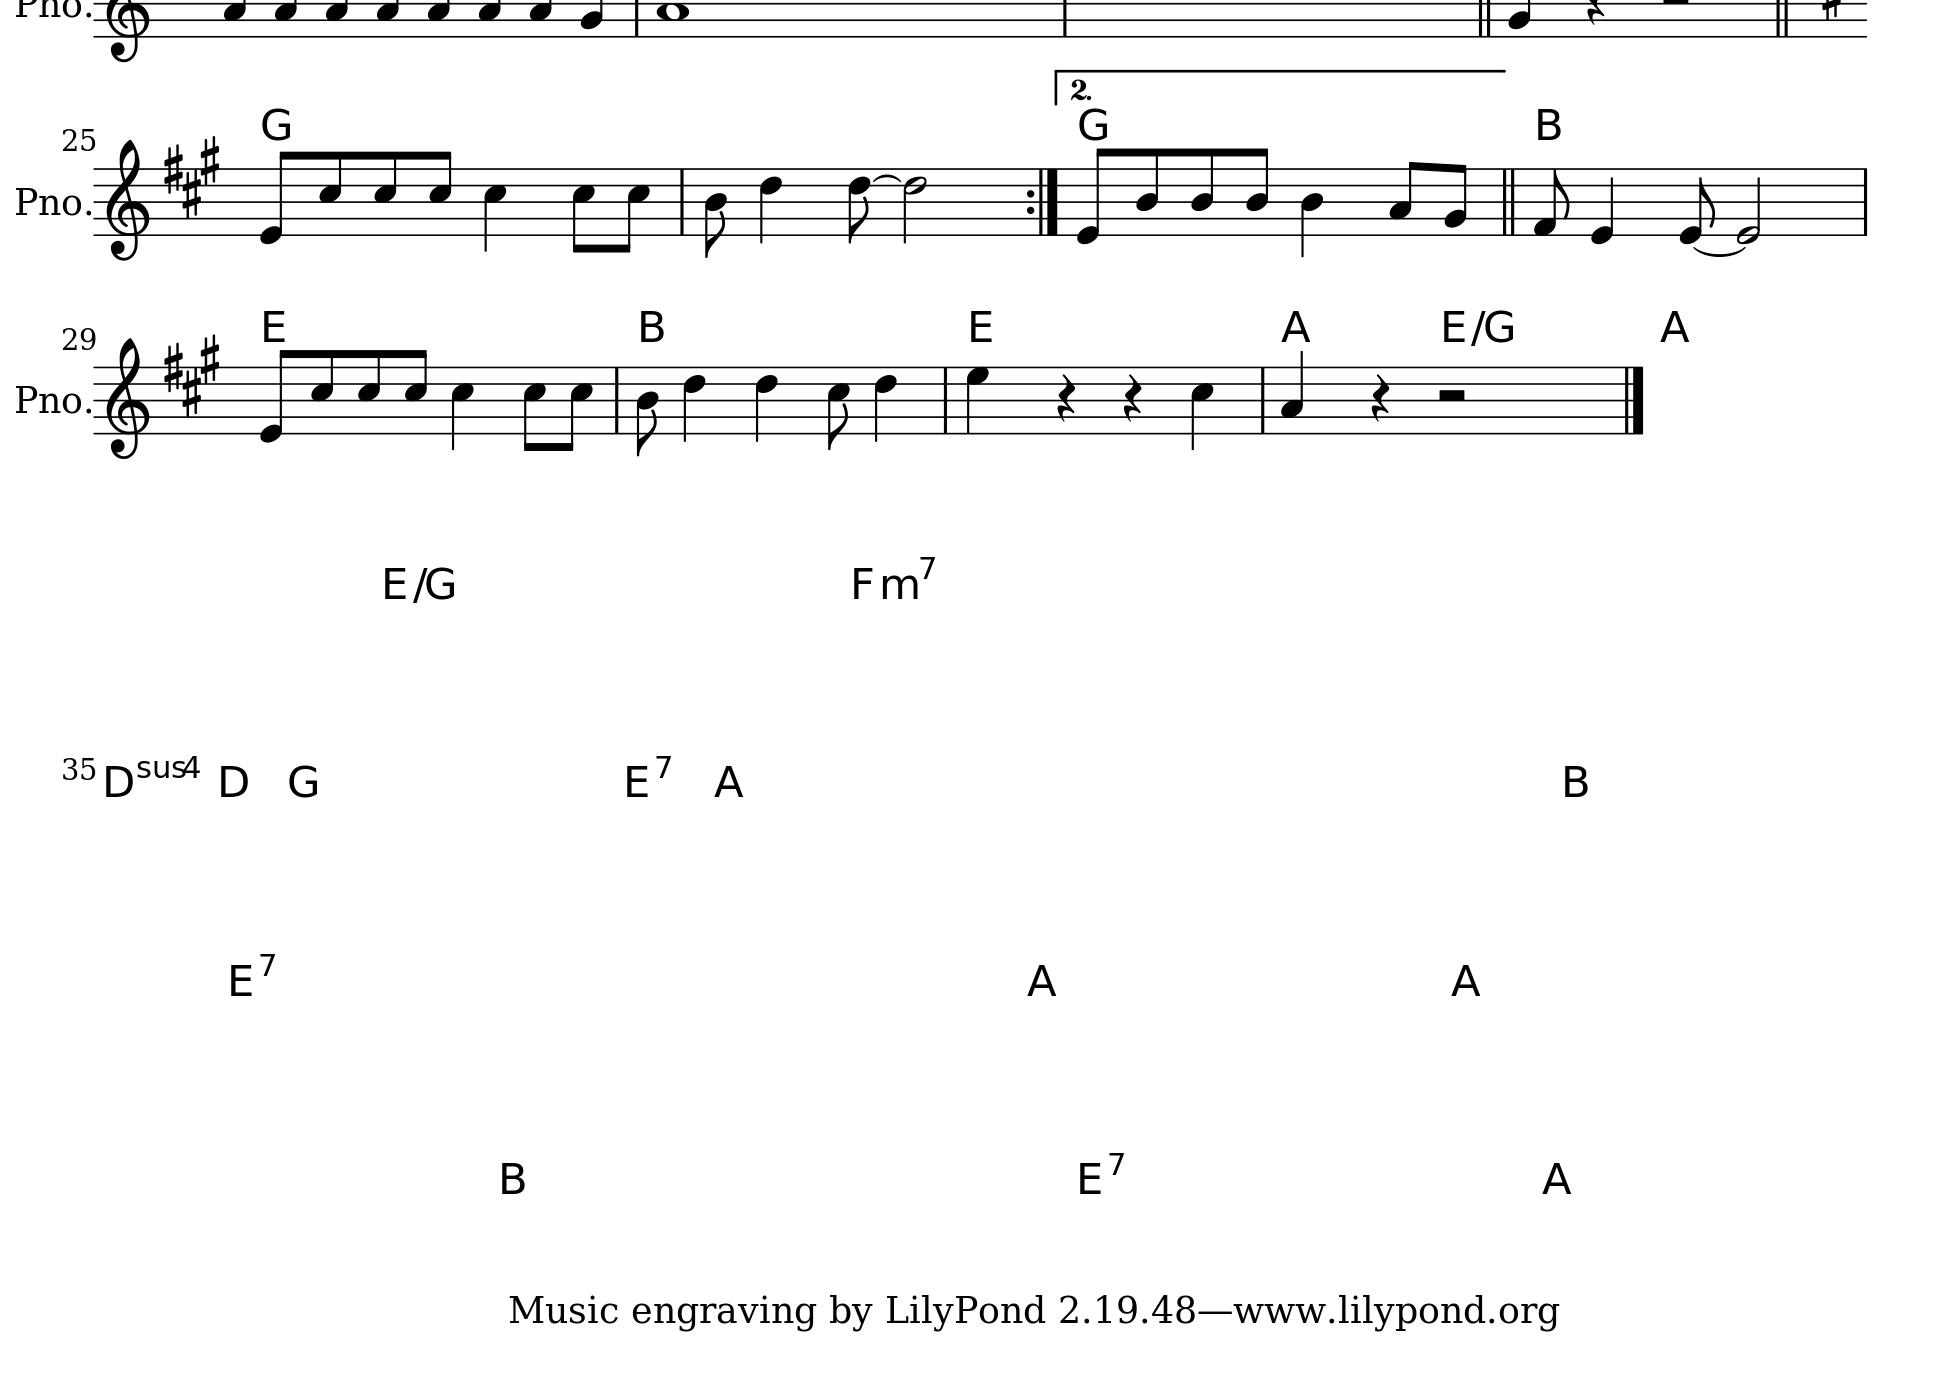2: (60, 325, 79, 352), (60, 127, 79, 153)
2_0: (1735, 166, 1764, 246)
2_6: (901, 166, 927, 244)
4_0: (1588, 166, 1617, 246)
4_3: (1281, 349, 1305, 436)
4_4: (1299, 166, 1324, 258)
4_5: (481, 165, 508, 253), (448, 364, 475, 451), (1189, 364, 1215, 451)
4_6: (757, 166, 783, 246), (681, 364, 706, 444), (753, 364, 778, 444), (871, 364, 897, 442)
4_7: (964, 364, 991, 435)
5: (79, 124, 96, 153)
7: (916, 552, 937, 580), (258, 949, 276, 978), (1108, 1147, 1125, 1176)
8_0: (1075, 145, 1113, 247), (256, 346, 294, 445), (258, 148, 295, 246), (1680, 166, 1716, 244)
8_1: (1531, 166, 1572, 237)
8_2: (1443, 162, 1468, 237)
8_3: (1389, 159, 1422, 237)
8_4: (1189, 145, 1216, 238), (633, 364, 660, 457), (1134, 147, 1161, 238), (702, 166, 727, 259), (1245, 145, 1270, 237)
8_5: (618, 166, 651, 255), (562, 364, 592, 453), (355, 346, 382, 436), (316, 148, 343, 237), (372, 148, 399, 237), (427, 148, 454, 237), (520, 364, 547, 453), (570, 166, 595, 255), (309, 346, 334, 435), (403, 346, 429, 435), (825, 364, 850, 451)
8_6: (844, 166, 871, 244)
9: (79, 324, 97, 352)
A_S: (162, 333, 222, 417), (162, 135, 222, 217)
Double_barline: (1498, 166, 1521, 235)
Final_barline: (1620, 364, 1647, 433)
Gclef: (103, 136, 151, 262), (103, 334, 151, 460)
Pno: (12, 183, 85, 222), (12, 382, 85, 418)
Rests2: (1434, 385, 1470, 406)
Rests4: (1369, 372, 1392, 424), (1056, 372, 1077, 424), (1122, 372, 1143, 424)
RightRepeatSign: (1024, 166, 1062, 235)
Seconda_volta: (1053, 66, 1509, 108)
Single_barline: (673, 166, 690, 232), (1857, 168, 1873, 234), (609, 366, 625, 432), (937, 366, 954, 432), (1255, 367, 1272, 432)
Slur: (1692, 246, 1747, 256), (871, 172, 903, 184)
